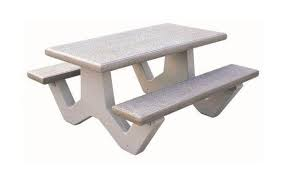obstacle: (29, 21, 259, 164)
